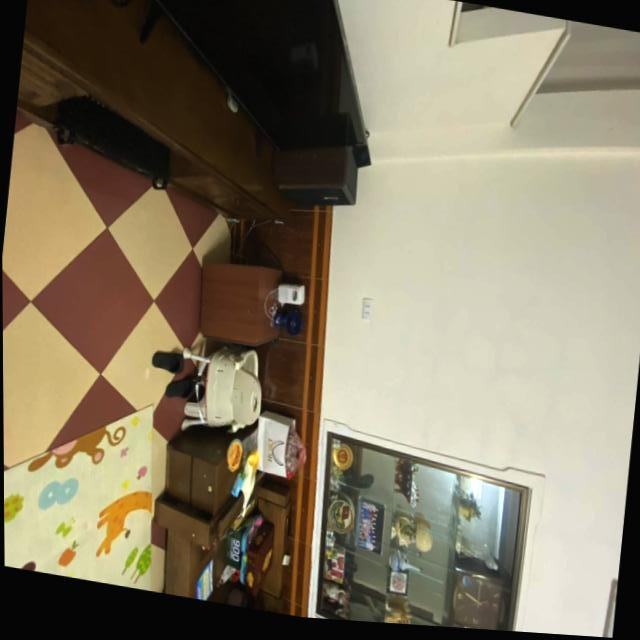outlet: (361, 296, 374, 320)
